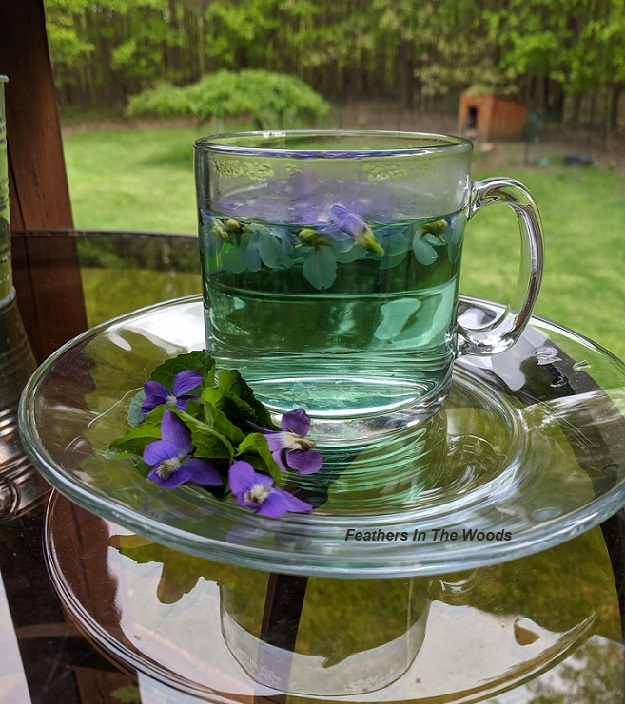violet: (144, 412, 223, 500), (221, 458, 309, 530), (243, 416, 334, 483), (135, 371, 205, 418)
